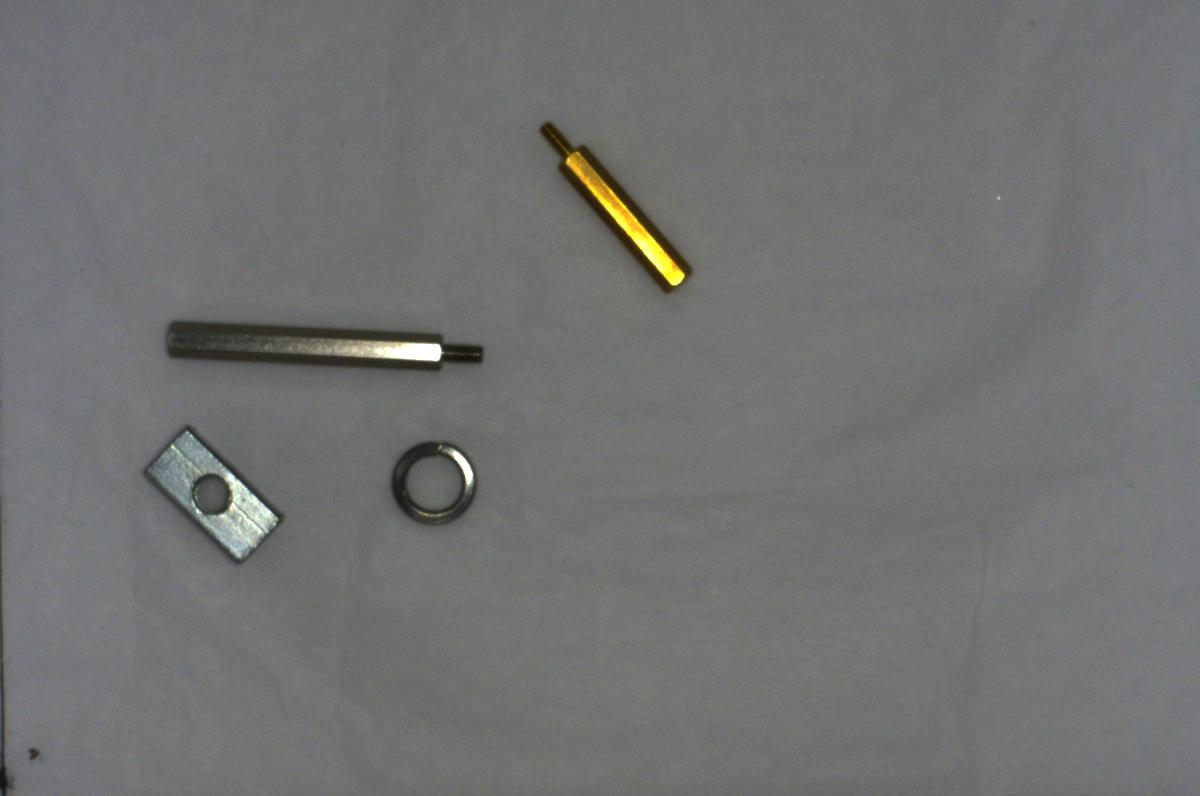Hexagon pillar: (532, 118, 694, 294)
Hexagonal steel column: (159, 307, 498, 381)
Rectangular nut: (135, 416, 284, 568)
Spring washer: (384, 428, 486, 534)
